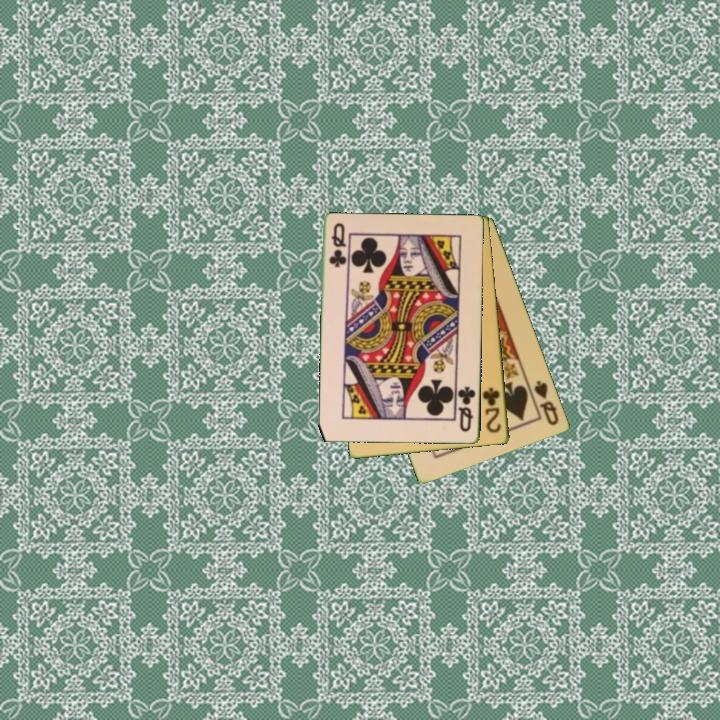2c: (479, 384, 504, 436)
Qc: (455, 383, 478, 435), (326, 220, 348, 270)
Qs: (531, 377, 562, 428)
